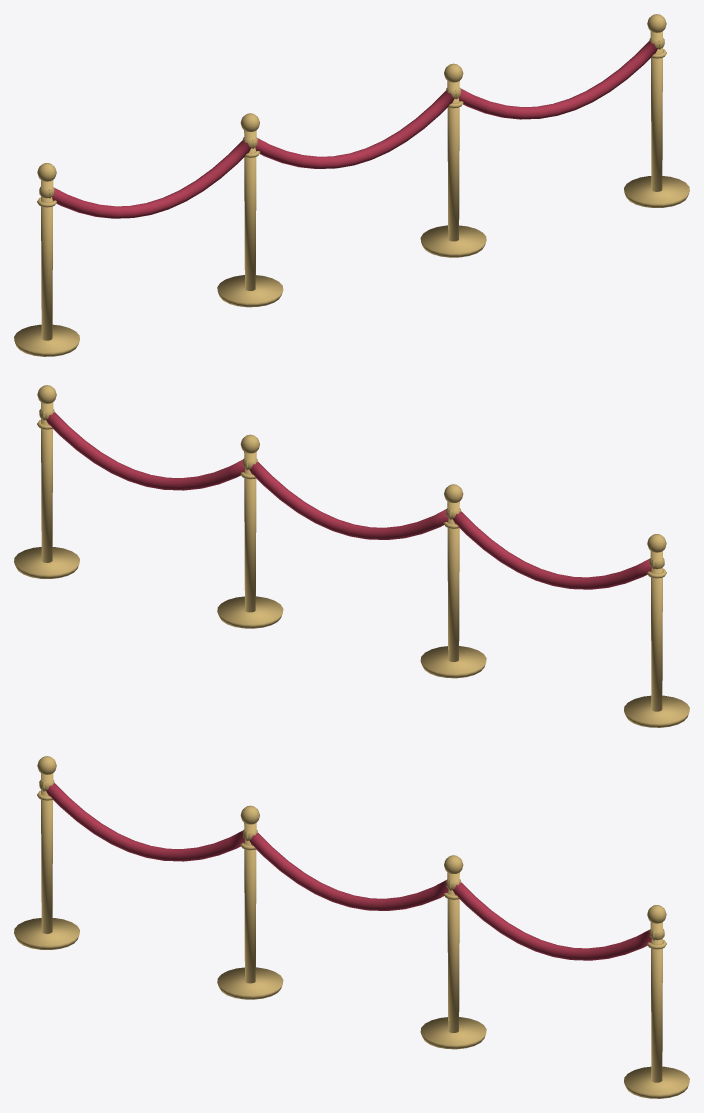
The model's file is rope_barrier.glb.
The picture shows the model from 3 angles, top to bottom: view 1: azimuth 30°, elevation 25°; view 2: azimuth 150°, elevation 25°; view 3: azimuth 330°, elevation 25°; orthographic projection.
Parts seen in each view (by area): view 1: Rope2, Rope0, Rope1, Pole2, Pole1, Pole0, Pole3, Base0, Base2, Base1, Base3; view 2: Rope2, Rope0, Rope1, Pole2, Pole1, Pole0, Pole3, Base0, Base2, Base1, Base3; view 3: Rope0, Rope2, Rope1, Pole1, Pole2, Pole3, Pole0, Base3, Base1, Base2, Base0.
Part boxes in pixels (bbox=[...]): Rope2: bbox=[458, 41, 657, 119]; Rope0: bbox=[52, 140, 250, 218]; Rope1: bbox=[255, 91, 454, 168]; Pole2: bbox=[447, 81, 459, 241]; Pole1: bbox=[244, 130, 256, 290]; Pole0: bbox=[41, 180, 53, 340]; Pole3: bbox=[650, 31, 662, 191]; Base0: bbox=[14, 324, 79, 356]; Base2: bbox=[420, 225, 486, 257]; Base1: bbox=[217, 275, 283, 307]; Base3: bbox=[624, 176, 689, 207]; Rope2: bbox=[46, 412, 245, 490]; Rope0: bbox=[453, 511, 651, 589]; Rope1: bbox=[249, 462, 448, 539]; Pole2: bbox=[244, 452, 256, 612]; Pole1: bbox=[447, 501, 459, 661]; Pole0: bbox=[650, 551, 662, 711]; Pole3: bbox=[41, 402, 53, 562]; Base0: bbox=[624, 695, 689, 727]; Base2: bbox=[217, 596, 283, 628]; Base1: bbox=[420, 646, 486, 678]; Base3: bbox=[14, 547, 79, 578]; Rope0: bbox=[46, 783, 245, 861]; Rope2: bbox=[453, 882, 651, 960]; Rope1: bbox=[249, 833, 448, 910]; Pole1: bbox=[244, 823, 256, 983]; Pole2: bbox=[447, 872, 459, 1032]; Pole3: bbox=[650, 922, 662, 1082]; Pole0: bbox=[41, 773, 53, 933]; Base3: bbox=[624, 1066, 689, 1098]; Base1: bbox=[217, 967, 283, 999]; Base2: bbox=[420, 1017, 486, 1049]; Base0: bbox=[14, 918, 79, 949].
Bounding box in the file's own units: 3.94 × 1.01 × 0.34.
